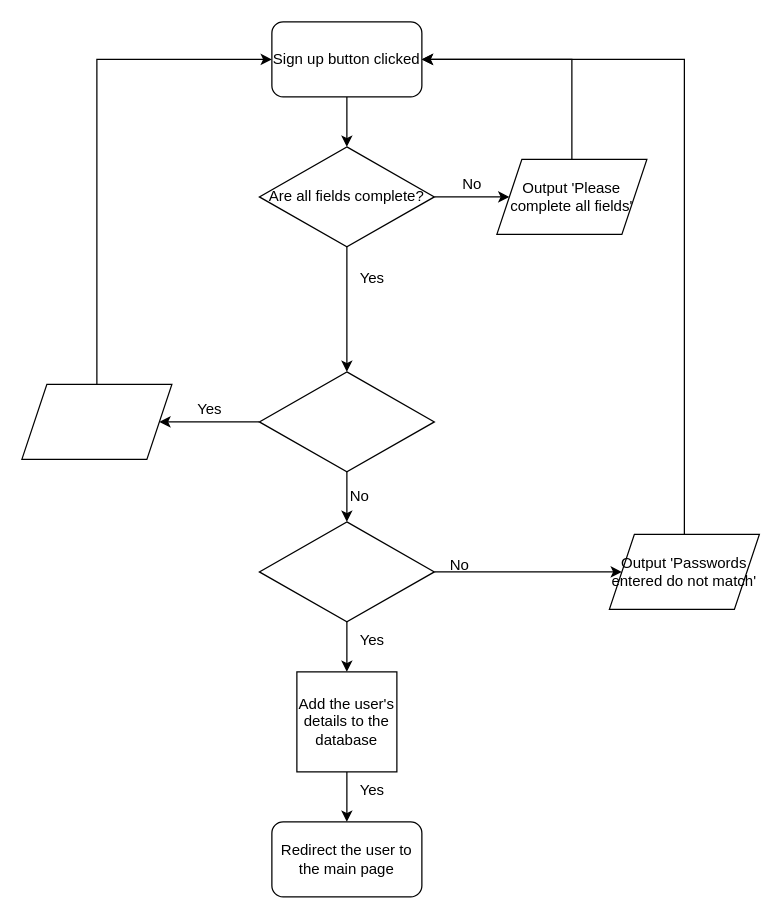
This 781x919 diagram has some shape labels left out. The box of each missing label's shape, as (x1, y1, x2, y2) in pixels:
Do the entered passwords match?: (258, 521, 434, 622)
Is the username entered already in the database: (258, 371, 434, 472)
Output 'Username already in use': (21, 383, 172, 459)
